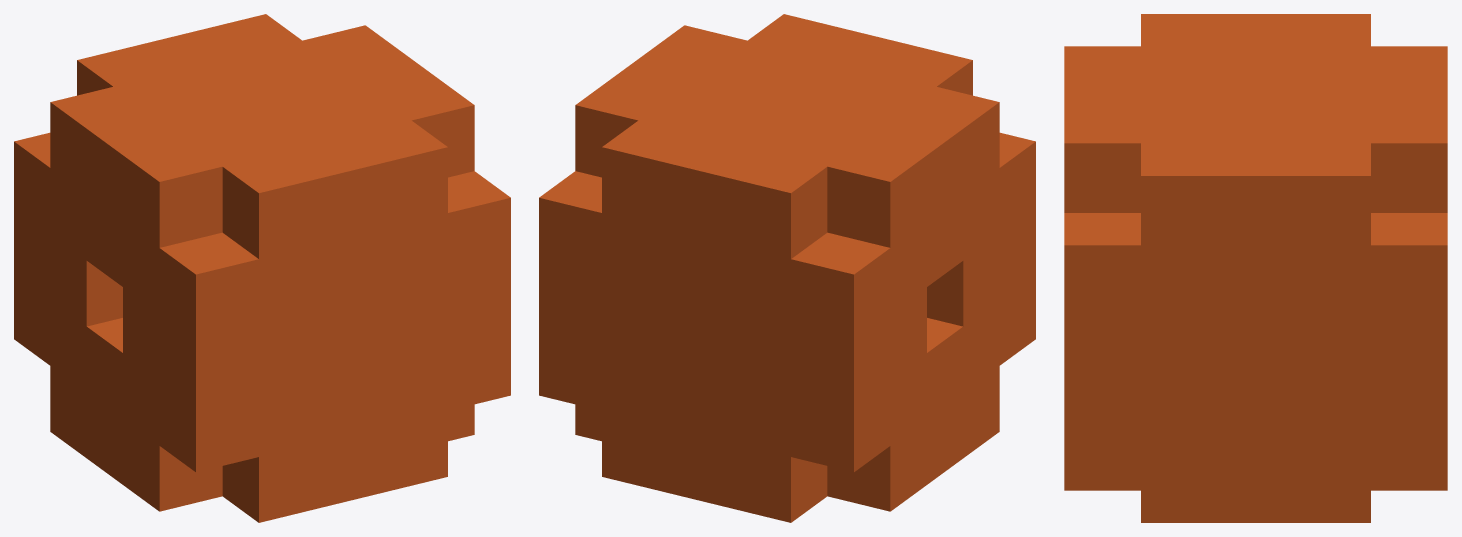
Rendered from lava_blob.glb.
The picture shows the model from 3 angles, left to right: view 1: azimuth 30°, elevation 25°; view 2: azimuth 150°, elevation 25°; view 3: azimuth 270°, elevation 25°; orthographic projection. The views are drawn at different scales.
Visible parts, largest first — view 1: model_0; view 2: model_0; view 3: model_0.
Boxes of the visible parts, <box> form: model_0: <box>14,14,510,522</box>; model_0: <box>539,14,1035,522</box>; model_0: <box>1064,14,1447,522</box>.
Size of the model in its own units: 0.2 by 0.2 by 0.2.
